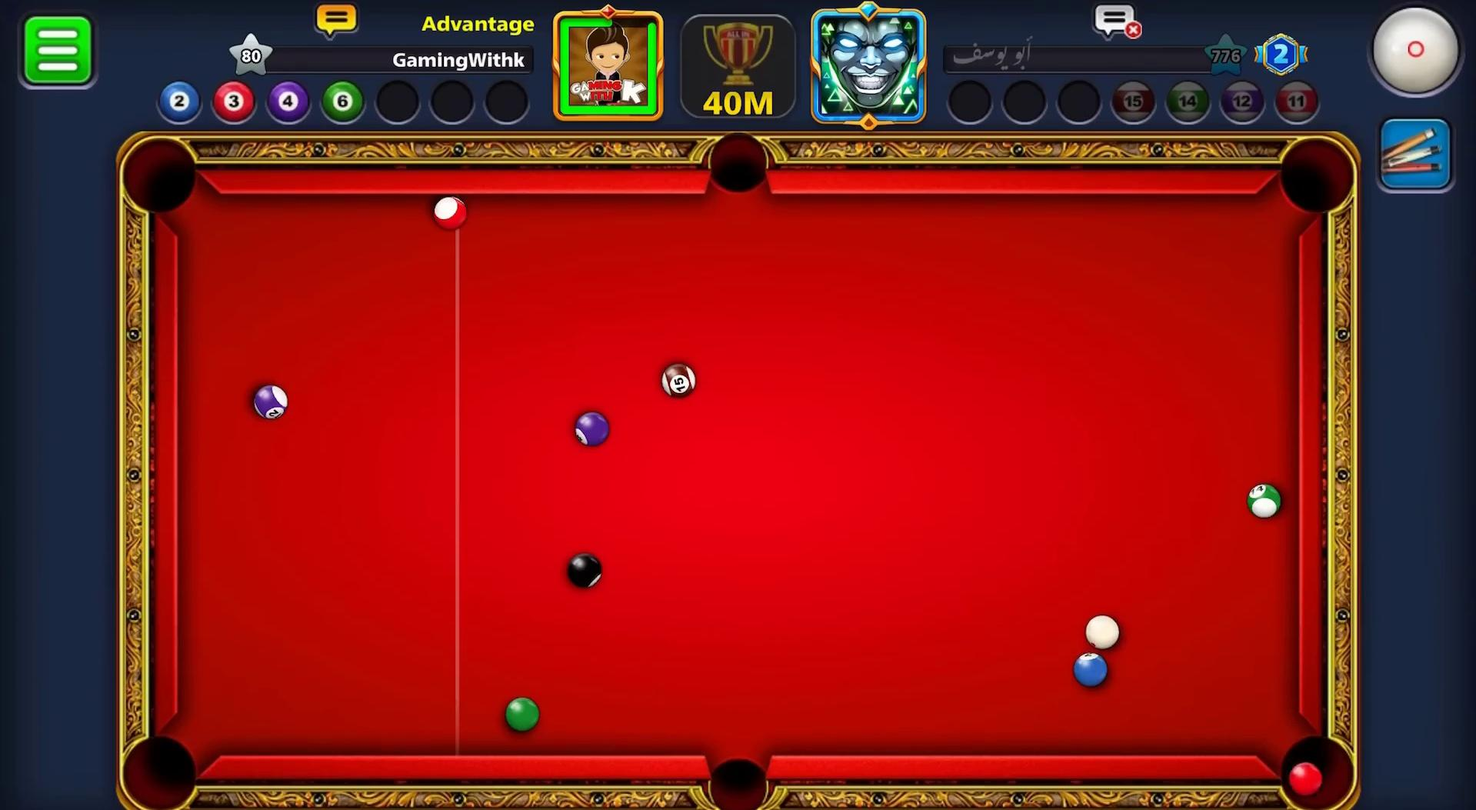Ball: (562, 402, 618, 455), (244, 372, 298, 426), (422, 185, 474, 241), (555, 547, 611, 595), (651, 357, 702, 404), (1241, 475, 1287, 524), (501, 692, 545, 738), (1069, 647, 1112, 688), (1284, 755, 1321, 800)
Hole: (101, 122, 219, 236), (1256, 718, 1372, 809), (1268, 125, 1361, 230), (685, 124, 791, 211), (691, 738, 784, 809), (122, 733, 198, 808)
Play_Area: (176, 192, 1294, 757)
Spin: (1364, 1, 1474, 107)
White: (1079, 609, 1124, 648)
